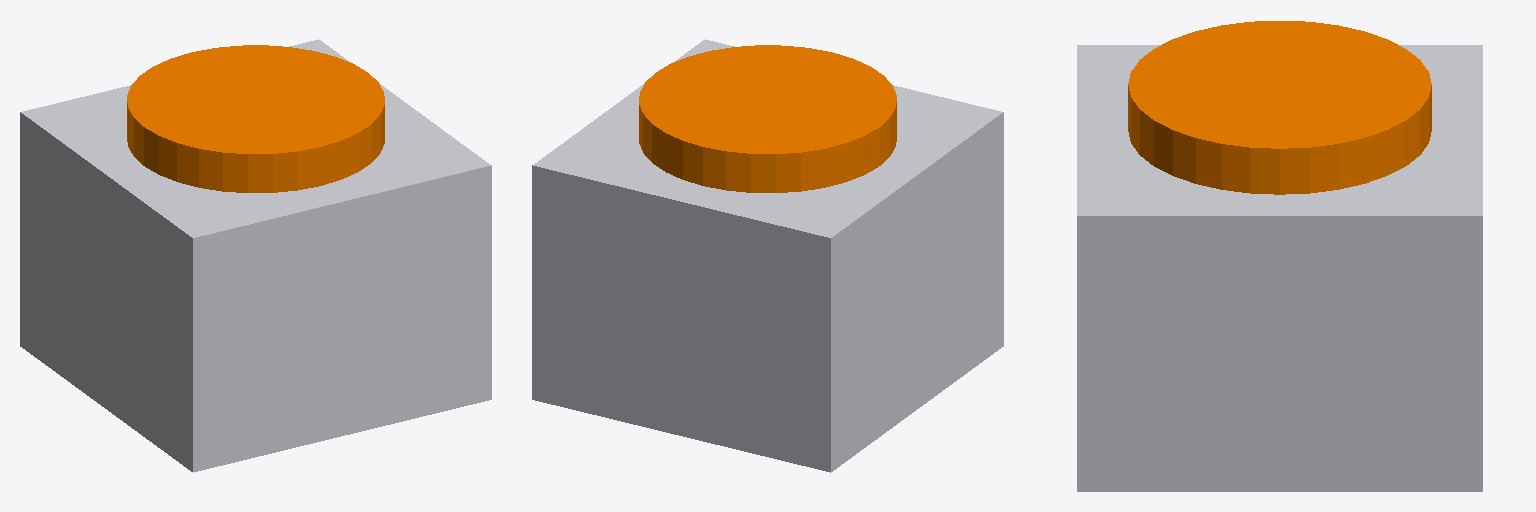
The robot description file, URDF, robot "vspin":
<?xml version="1.0"?>
<!-- Bare Agilent VSpin centrifuge (without Access2 loader arm). Simplified
     placeholder geometry: a 40x40x30 cm housing with a single continuous
     rotor on the Z axis. Use the vspin_access_2_urdf catalog entry if a
     loader-equipped unit is needed; that URDF carries the full meshed
     geometry plus loader Y/Z/gripper axes. -->
<robot name="vspin">
  <link name="housing">
    <visual>
      <origin xyz="0 0 0.15" rpy="0 0 0"/>
      <geometry><box size="0.40 0.40 0.30"/></geometry>
      <material name="vspin_body"><color rgba="0.85 0.85 0.88 1"/></material>
    </visual>
  </link>
  <link name="rotor">
    <visual>
      <geometry><cylinder length="0.06" radius="0.15"/></geometry>
      <material name="rotor_body"><color rgba="0.97 0.53 0.00 1"/></material>
    </visual>
  </link>
  <joint name="dof_rotor" type="continuous">
    <parent link="housing"/>
    <child link="rotor"/>
    <origin xyz="0 0 0.32" rpy="0 0 0"/>
    <axis xyz="0 0 1"/>
    <limit effort="100" velocity="200"/>
  </joint>
</robot>

--- Facts derived from the render (not from the file) ---
Views: 3 orthographic renders of the robot side by side, from view 1: azimuth 30°, elevation 25°; view 2: azimuth 150°, elevation 25°; view 3: azimuth 270°, elevation 25°.
Robot: vspin — 2 links, 1 joints (1 continuous); root link housing; default pose: every joint at zero.
Visible links, largest first — view 1: housing, rotor; view 2: housing, rotor; view 3: housing, rotor.
Boxes of the visible links, x1,y1,x2,y2 form: housing: (20, 39, 491, 472); rotor: (127, 45, 384, 192); housing: (532, 39, 1003, 472); rotor: (639, 45, 896, 192); housing: (1077, 45, 1482, 491); rotor: (1128, 21, 1431, 194).
Bounding box of the posed robot: 0.4 × 0.4 × 0.35 m (x, y, z).
Geometry: primitives only (box / cylinder / sphere), no mesh files.
